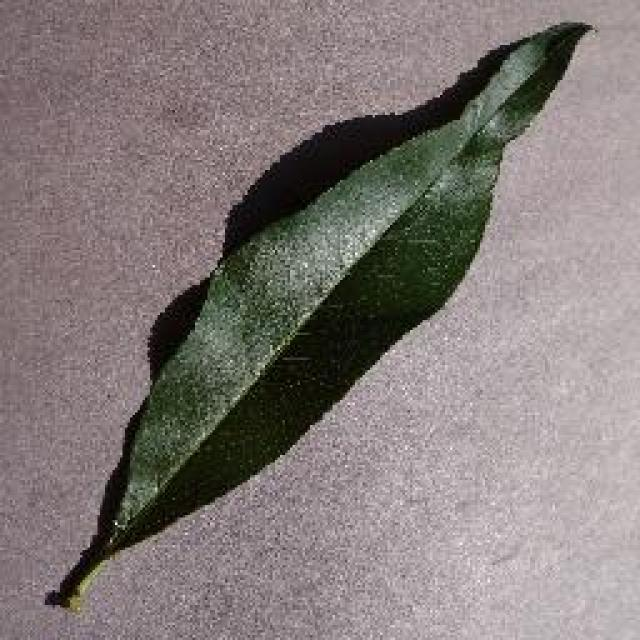Pea_healthy: (101, 66, 531, 492)
